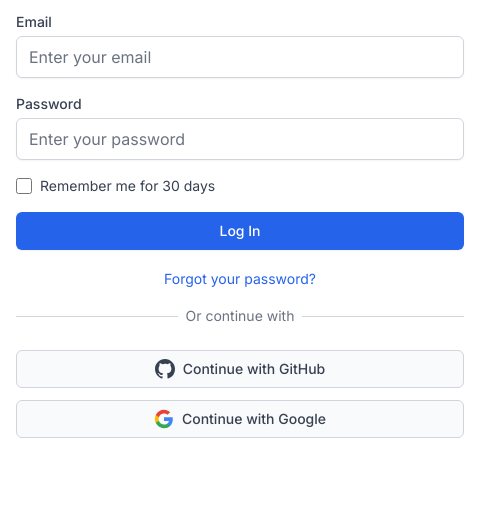
Test: LoginForm › displays error message on login failure
Type "test@example.com" into the field labelled "Email".
click(240, 57); type("test@example.com")  # box [16,36,464,78]
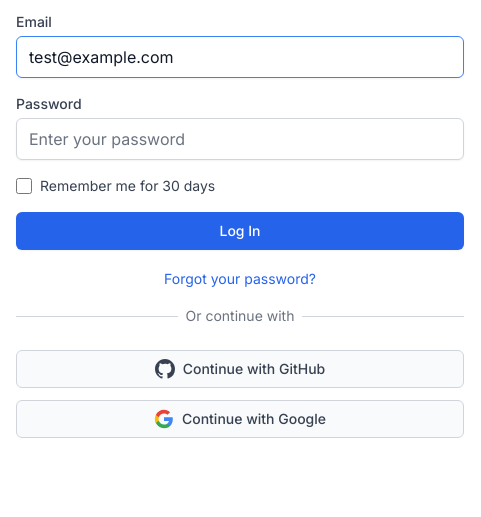
Type "wrongpassword" into the password field labelled "Password".
click(240, 139); type("wrongpassword")  # box [16,118,464,160]
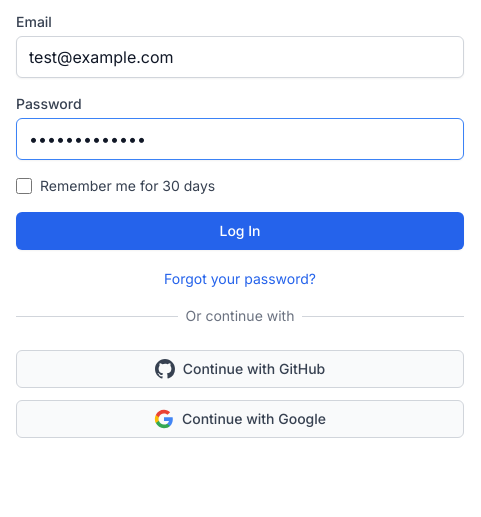
Click the button "Log In".
click(240, 231)  # box [16,212,464,250]
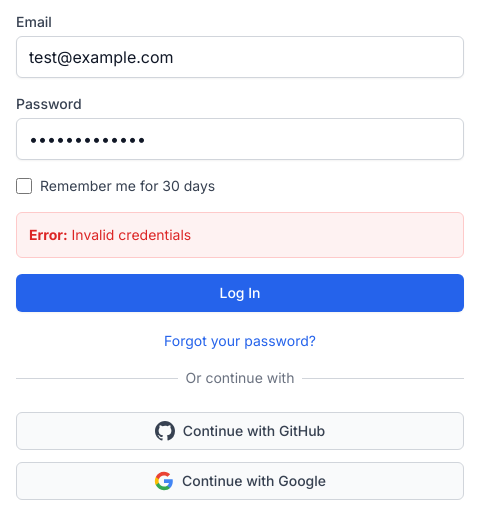
Result: the text "Error: Invalid credentials" is shown at [16,212,464,258]
